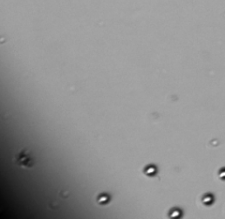Dead Cell: (17, 150, 33, 166)
Living Cell: (142, 163, 158, 176), (167, 206, 183, 218), (96, 192, 111, 204), (202, 192, 214, 206)
